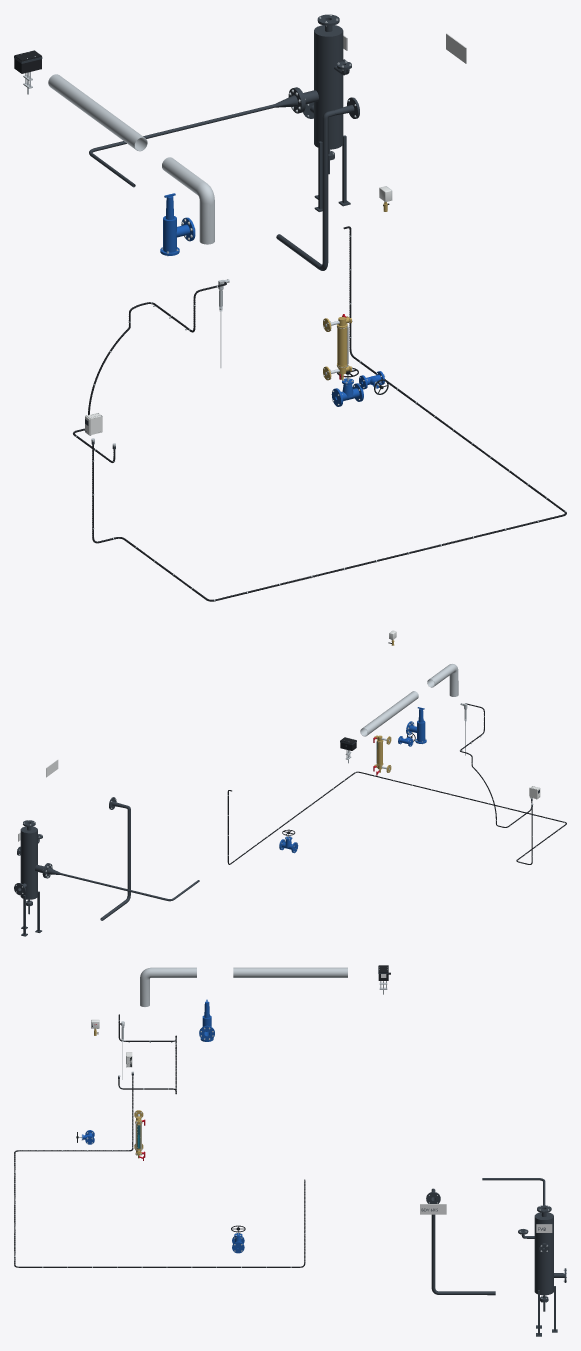
The model's file is s4000-6-CLcW-TLc.glb.
3 views of the same model, one above another, from view 1: azimuth 30°, elevation 25°; view 2: azimuth 150°, elevation 25°; view 3: azimuth 270°, elevation 25° (orthographic). The views are drawn at different scales.
Parts seen in each view (by area): view 1: separator_fv8 / dark, wiring_pump_2 / black, steam_delivery / steel, bottom_to_bdv / dark, steam_rise / steel, tds_to_fv / dark, safety_2 / blue, sight_glasses_2 / sight_glasses_2_0.npz, wiring_lp400 / black; view 2: separator_fv8 / dark, wiring_pump_2 / black, steam_delivery / steel, bottom_to_bdv / dark, steam_rise / steel, tds_to_fv / dark, safety_2 / blue, sight_glasses_2 / sight_glasses_2_0.npz; view 3: separator_fv8 / dark, wiring_pump_2 / black, steam_delivery / steel, steam_rise / steel, bottom_to_bdv / dark.
Boxes of the visible parts, box(x1,y1,x2,y2) form: separator_fv8 / dark: box(294, 14, 351, 211); wiring_pump_2 / black: box(92, 226, 566, 601); steam_delivery / steel: box(48, 74, 147, 151); bottom_to_bdv / dark: box(276, 97, 359, 270); steam_rise / steel: box(162, 157, 214, 244); tds_to_fv / dark: box(89, 88, 303, 187); safety_2 / blue: box(160, 193, 195, 255); sight_glasses_2 / sight_glasses_2_0.npz: box(323, 314, 352, 380); wiring_lp400 / black: box(73, 282, 226, 462); separator_fv8 / dark: box(14, 820, 48, 936); wiring_pump_2 / black: box(227, 771, 566, 864); steam_delivery / steel: box(360, 691, 418, 736); bottom_to_bdv / dark: box(100, 797, 130, 920); steam_rise / steel: box(427, 664, 458, 696); tds_to_fv / dark: box(44, 863, 199, 901); safety_2 / blue: box(406, 707, 426, 743); sight_glasses_2 / sight_glasses_2_0.npz: box(373, 735, 391, 775); separator_fv8 / dark: box(518, 1205, 566, 1336); wiring_pump_2 / black: box(14, 1075, 305, 1267); steam_delivery / steel: box(233, 967, 347, 977); steam_rise / steel: box(140, 967, 196, 1006); bottom_to_bdv / dark: box(426, 1188, 495, 1295).
Bounding box in the file's own units: 5.19 × 2.82 × 6.24.
